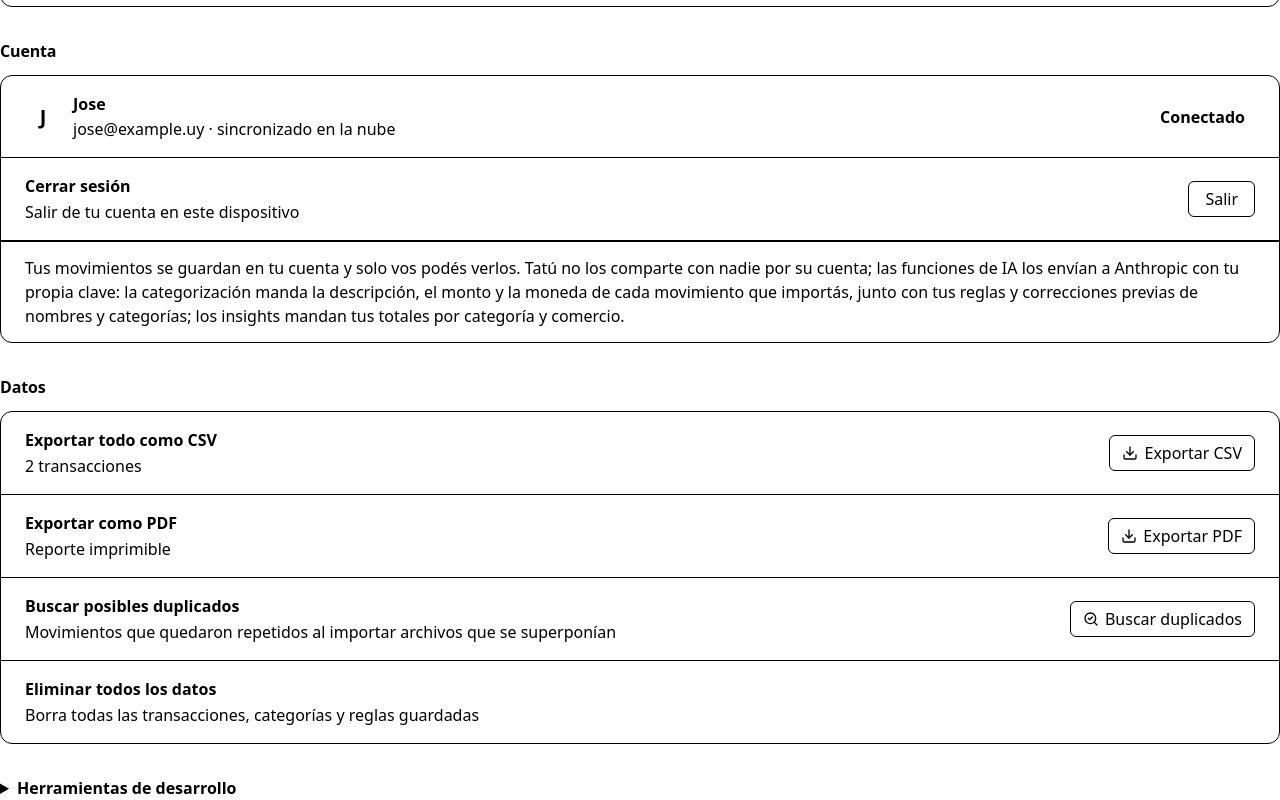
Test: Configuración → Datos: Buscar posibles duplicados (#167) › shows a user-facing error as written
(page scrolled)
What coordinates should you click on to do the following:
click the button "Buscar duplicados"
I would click on:
 (1162, 619)
Its box is [1070, 601, 1255, 637].
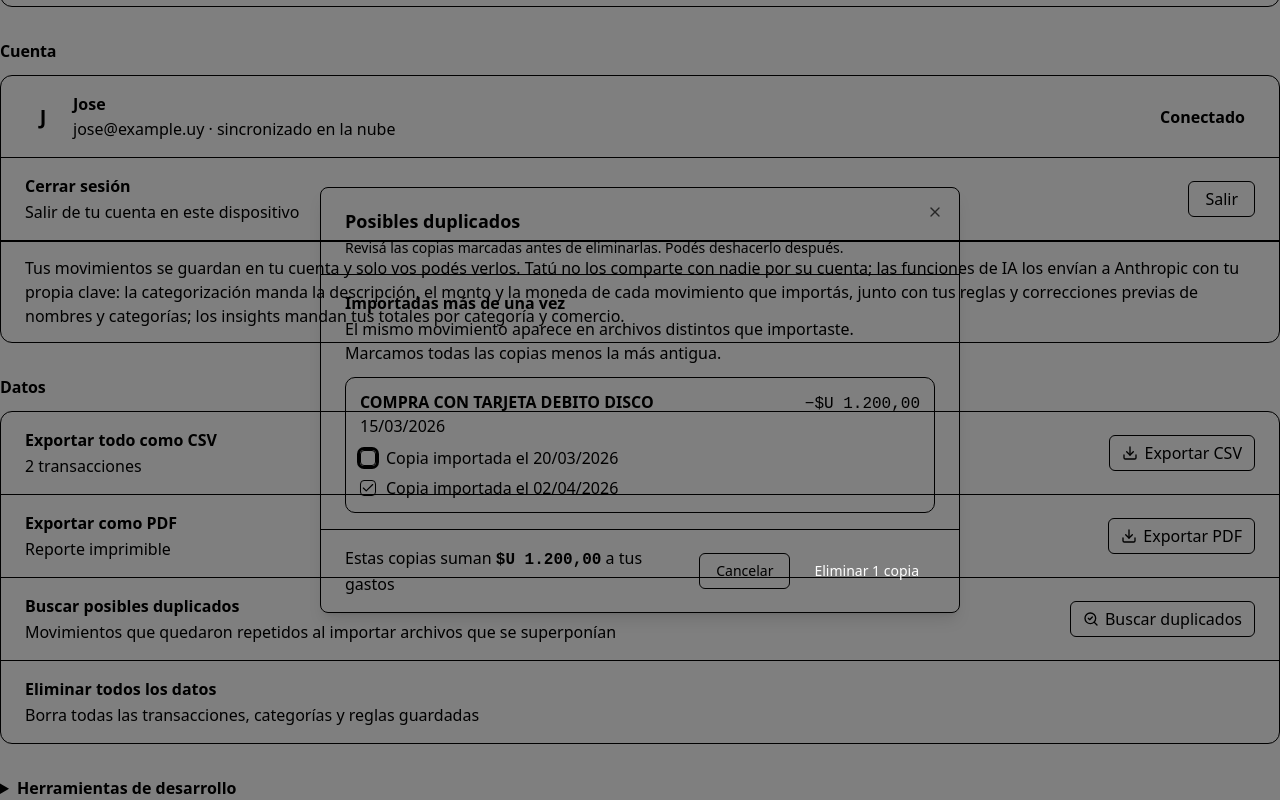
What coordinates should you click on to do the following:
click the button "Eliminar 1 copia"
I would click on:
 (867, 571)
Its box is [798, 553, 935, 589].
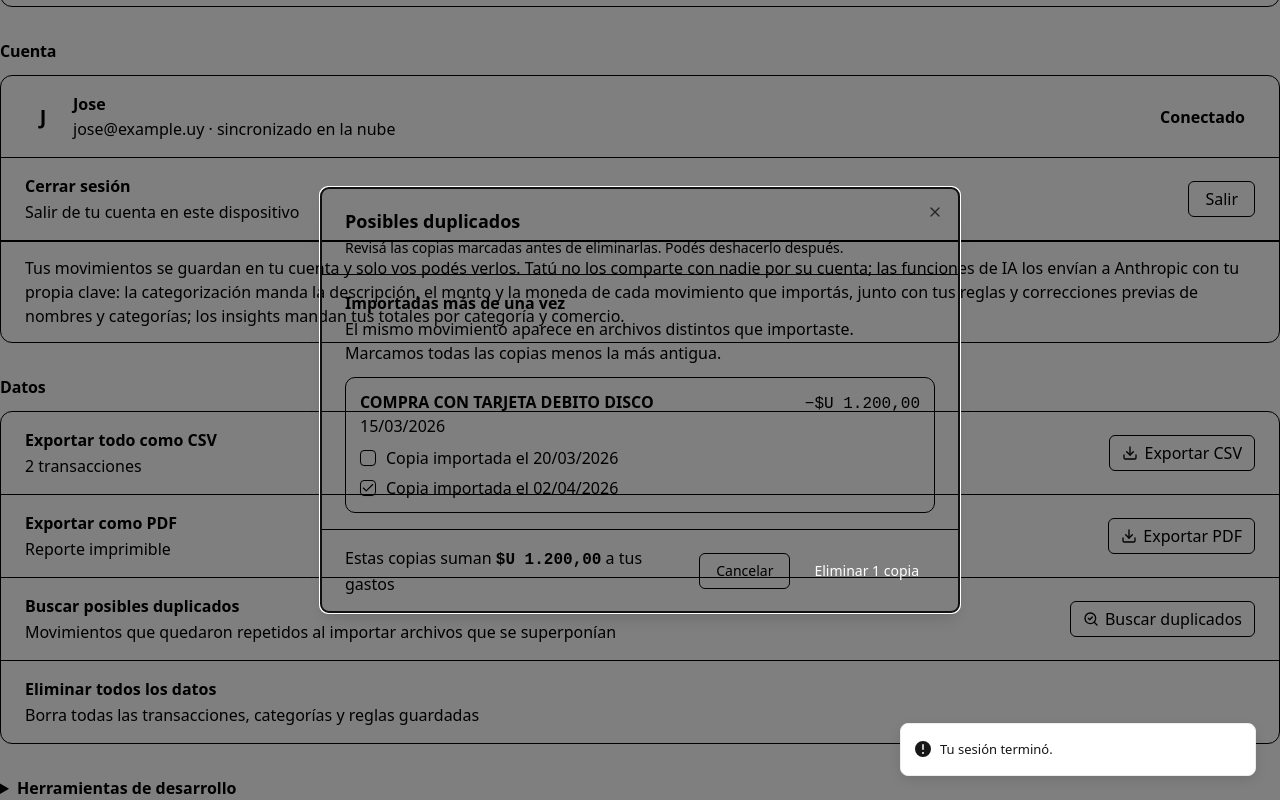
Expected: the text "Tu sesión terminó." is shown, [940, 740, 1053, 759]
